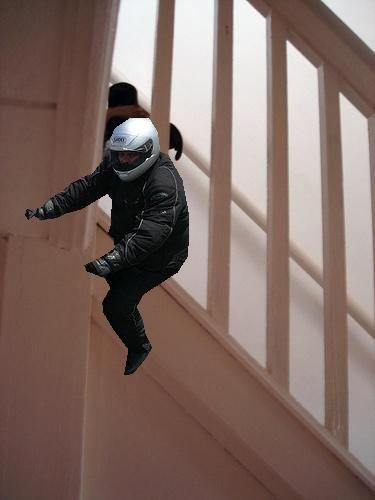tampered: (26, 119, 189, 375)
